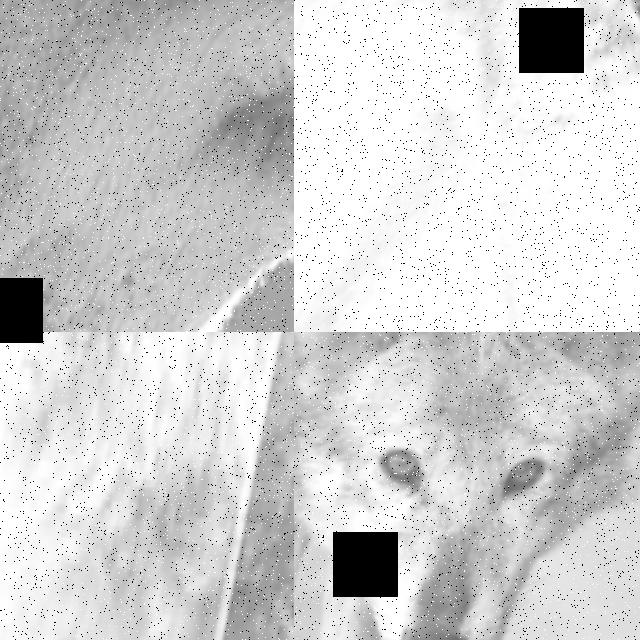wolf: (294, 0, 640, 332), (294, 332, 640, 640), (0, 0, 294, 332), (0, 332, 294, 640), (231, 332, 294, 640)
